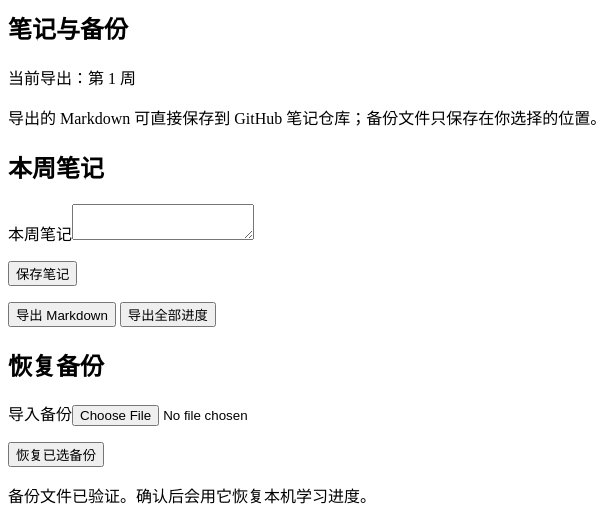
Scenario: NotesSettingsPage › prevents duplicate restore work while a confirmation is already restoring
Earlier steps of the test are not shown.
Later steps or results of the test are not shown.
Expected: the message "备份文件已验证。确认后会用它恢复本机学习进度。" is shown, [8,488,376,505]
Click the button "恢复已选备份".
click(56, 455)  # box [8,442,104,467]
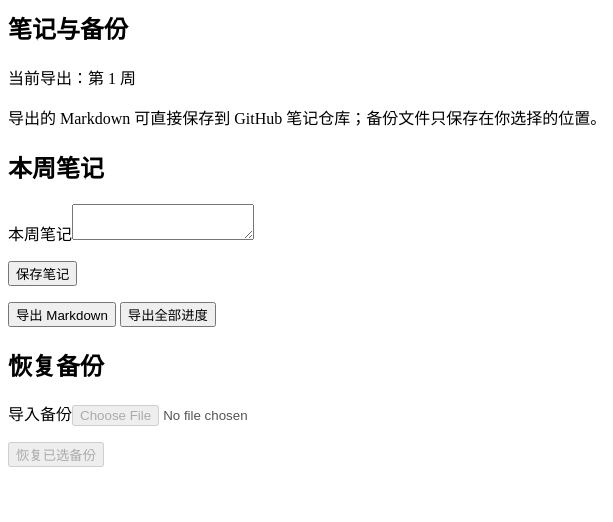
Click the button "恢复已选备份".
click(56, 455)  # box [8,442,104,467]
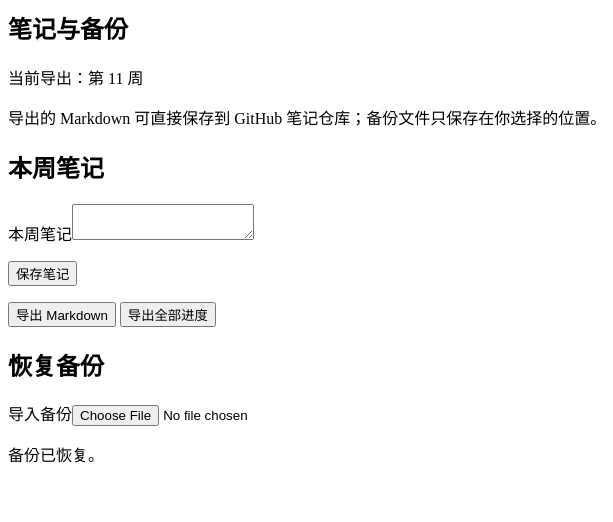
Now the message shows "备份已恢复", box [8,447,104,464]
